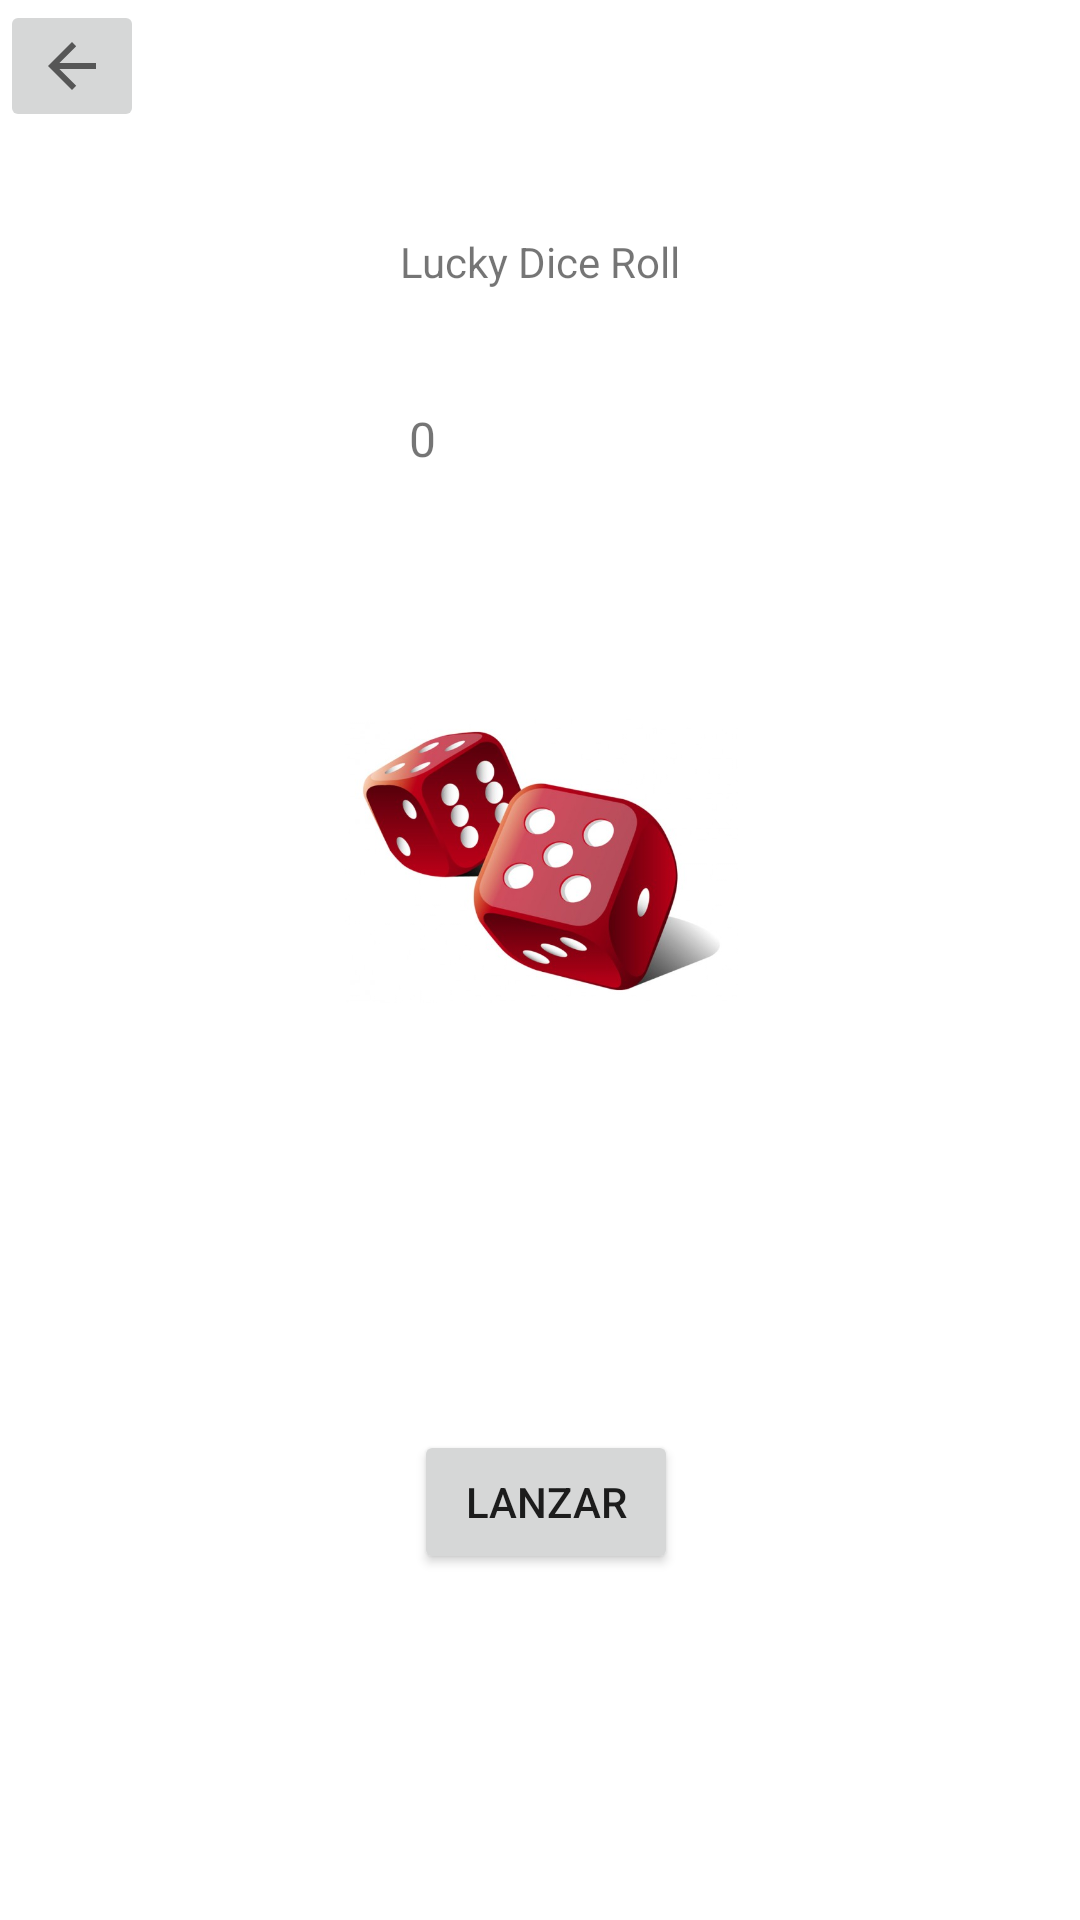

Named icons in this screenshot (1080x1920) and their centers, (x,y):
dados: (540,860)
